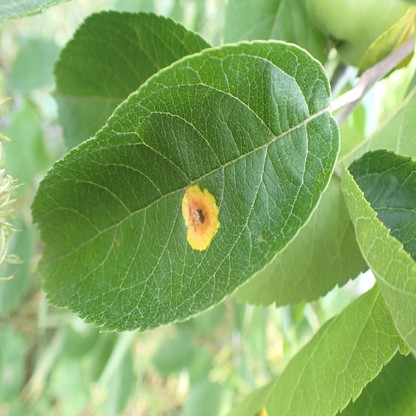rust: (182, 185, 222, 249), (256, 404, 267, 414)
